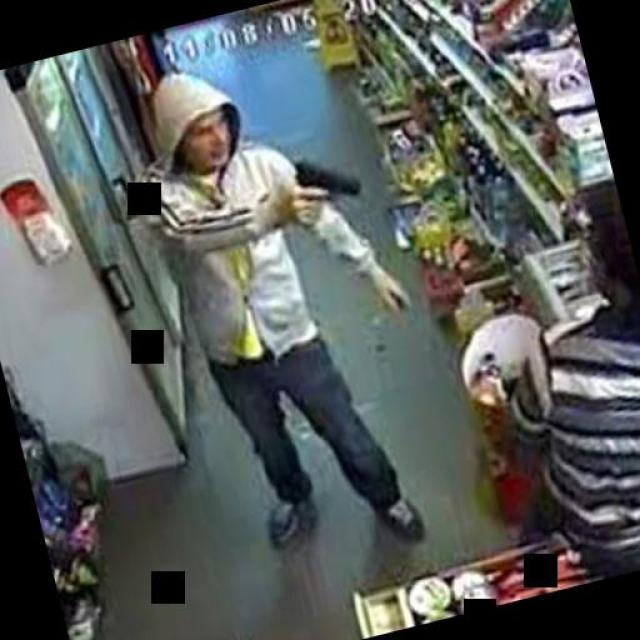gun: (279, 130, 379, 254)
